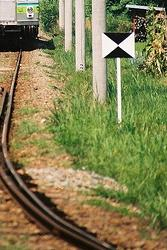train: (0, 0, 40, 51)
